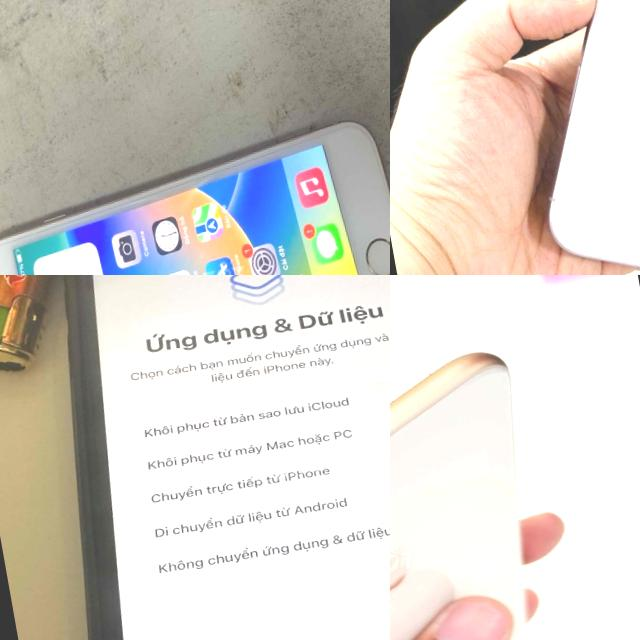gen_17: (490, 0, 640, 275)
gen_7_8: (0, 275, 390, 640), (0, 99, 390, 275), (390, 340, 578, 640)
